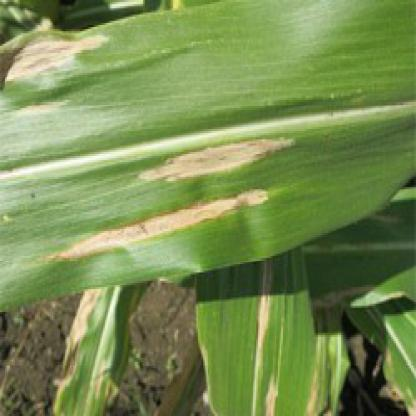Corn leaf blight: (5, 19, 414, 277)
